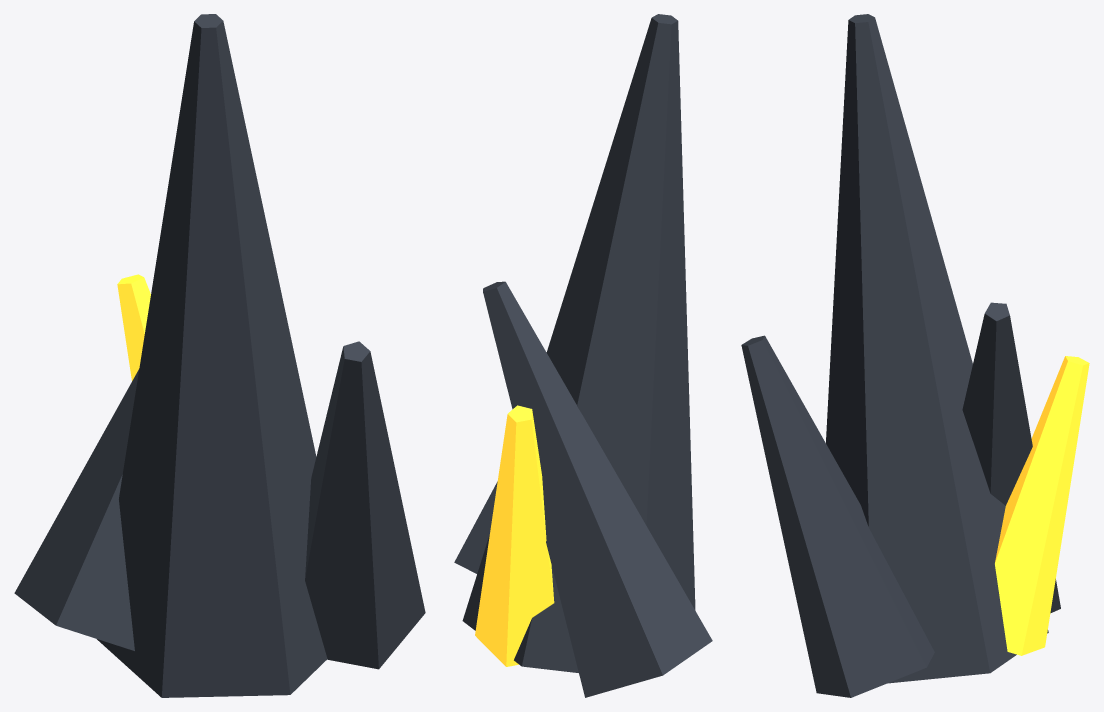
The model's file is skill_earth_spike.glb.
3 renders of one model, left to right at view 1: azimuth 30°, elevation 25°; view 2: azimuth 150°, elevation 25°; view 3: azimuth 270°, elevation 25°, orthographic. The views are drawn at different scales.
Parts seen in each view (by area): view 1: RockSpike_0, RockSpike_2, RockSpike_1, RockSpike_3; view 2: RockSpike_0, RockSpike_1, RockSpike_3, RockSpike_2; view 3: RockSpike_0, RockSpike_2, RockSpike_3, RockSpike_1.
Boxes of the visible parts, x1,y1,x2,y2 form: RockSpike_0: [97, 14, 327, 697]; RockSpike_2: [305, 341, 425, 669]; RockSpike_1: [14, 369, 139, 650]; RockSpike_3: [117, 274, 150, 380]; RockSpike_0: [462, 14, 695, 672]; RockSpike_1: [483, 281, 712, 697]; RockSpike_3: [475, 405, 554, 666]; RockSpike_2: [454, 481, 497, 573]; RockSpike_0: [826, 14, 1048, 683]; RockSpike_2: [741, 335, 934, 697]; RockSpike_3: [995, 356, 1089, 655]; RockSpike_1: [962, 302, 1060, 613].
Size of the model in its own units: 0.6189 by 1.27 by 0.6503.
